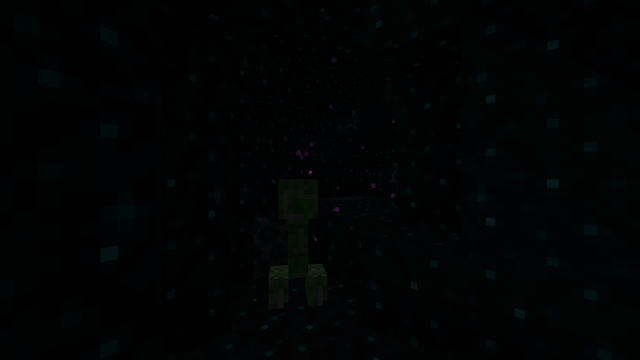creepers: (266, 173, 328, 313)
